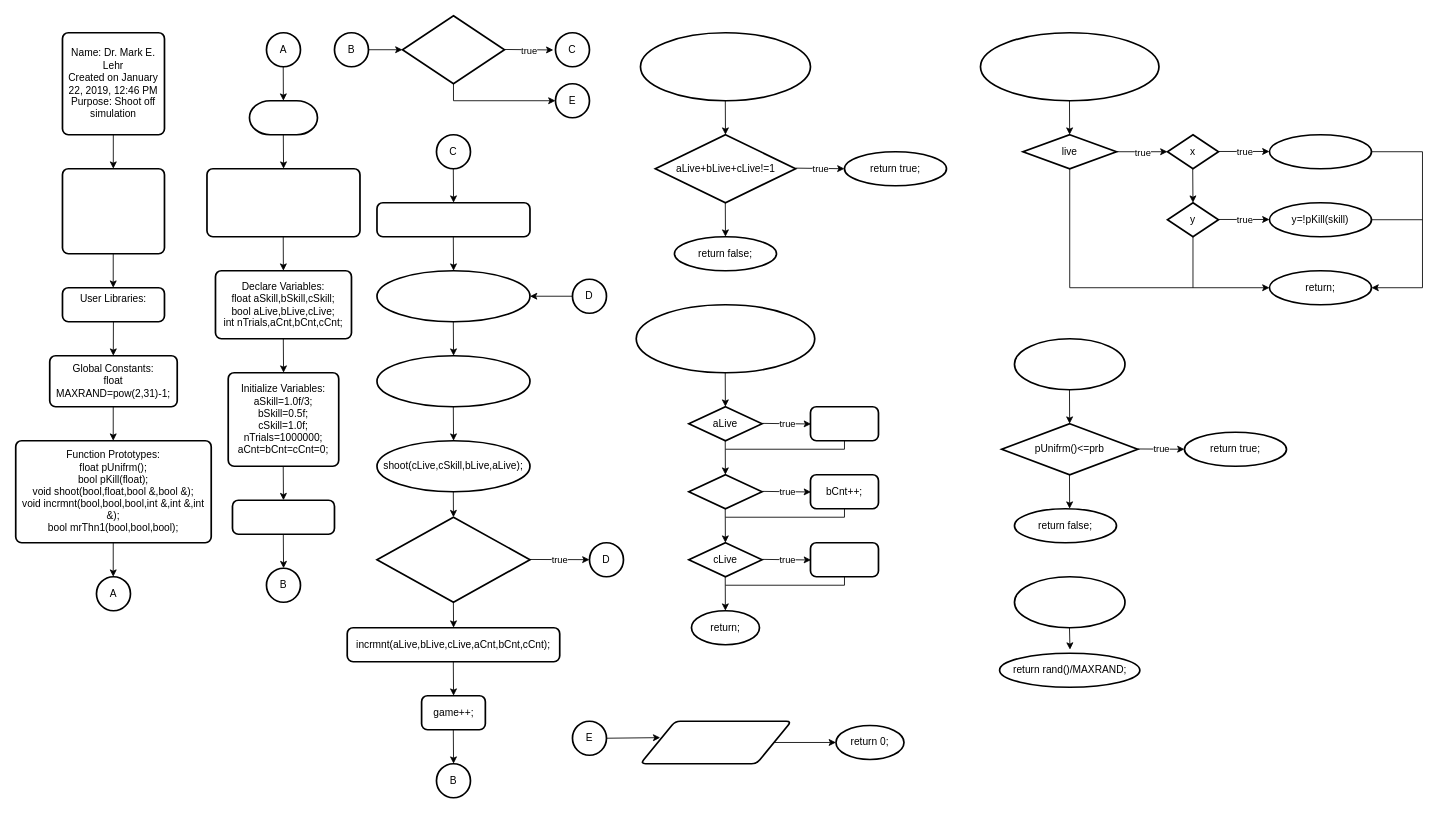
The diagram is 1444 pixels wide and 813 high, and some of its shapes have lost their labels. Each missing label, with the centre of its shape:
aCnt++;: the point at 844,423
aLive=bLive=cLive=true;: the point at 453,219
bLive: the point at 725,491
bool mrThn1(bool aLive,bool bLive,bool cLive): the point at 725,66
bool pKill(float prb): the point at 1069,363
cCnt++;: the point at 844,559
DisplayResults: the point at 715,742
float pUnifrm(): the point at 1069,601
game<=nTrials: the point at 453,49
int game = 1;: the point at 283,517
Main: the point at 283,117
mrThn1(aLive,bLive,cLive): the point at 453,559
Set Random Seed: srand(static_cast<unsigned>(time(0)));: the point at 283,202
shoot(aLive,aSkill,cLive,bLive);: the point at 453,295
shoot(bLive,bSkill,cLive,aLive);: the point at 453,380
System Libraries: <iostream> <iomanip> <ctime> <cmath> <iomanip>: the point at 113,210
void incrmnt(bool aLive,bool bLive,bool cLive, int &aCnt,int &bCnt,int &cCnt): the point at 725,338
void shoot(bool live,float skill,bool &x,bool &y): the point at 1069,66
x=!pKill(skill): the point at 1320,151
